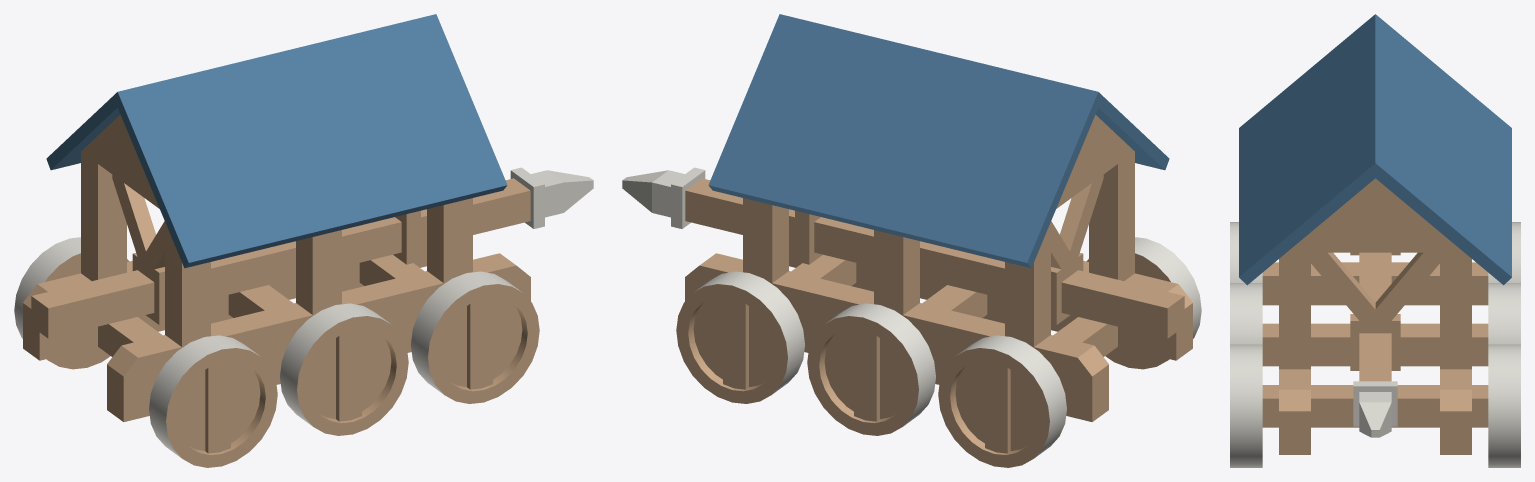
Rendered from siegeRam.fbx.
The picture shows the model from 3 angles, left to right: view 1: azimuth 30°, elevation 25°; view 2: azimuth 150°, elevation 25°; view 3: azimuth 270°, elevation 25°; orthographic projection. The views are drawn at different scales.
Parts seen in each view (by area): view 1: body 2, ram, wheelBackRight 5, wheelFrontRight 7, wheelMidRight 1, wheelBackLeft 5; view 2: body 2, ram, wheelBackLeft 5, wheelFrontLeft 7, wheelMidLeft 1, wheelBackRight 5; view 3: body 2, ram, wheelFrontLeft 7, wheelFrontRight 7, wheelMidLeft 1, wheelMidRight 1, wheelBackLeft 5, wheelBackRight 5.
Boxes of the visible parts, box(x1,y1,x2,y2) form: body 2: box(23, 14, 530, 421); ram: box(31, 167, 593, 338); wheelBackRight 5: box(149, 335, 277, 467); wheelFrontRight 7: box(411, 271, 539, 403); wheelMidRight 1: box(280, 303, 408, 435); wheelBackLeft 5: box(14, 237, 129, 369); body 2: box(685, 14, 1192, 421); ram: box(622, 167, 1184, 338); wheelBackLeft 5: box(938, 335, 1066, 467); wheelFrontLeft 7: box(676, 271, 804, 403); wheelMidLeft 1: box(807, 303, 935, 435); wheelBackRight 5: box(1086, 237, 1201, 369); body 2: box(1239, 14, 1511, 454); ram: box(1353, 252, 1397, 437); wheelFrontLeft 7: box(1488, 344, 1520, 467); wheelFrontRight 7: box(1230, 344, 1262, 467); wheelMidLeft 1: box(1488, 283, 1520, 344); wheelMidRight 1: box(1230, 283, 1262, 344); wheelBackLeft 5: box(1488, 222, 1520, 283); wheelBackRight 5: box(1230, 222, 1262, 283).
Size of the model in its own units: 19.87 by 11.22 by 9.47.
